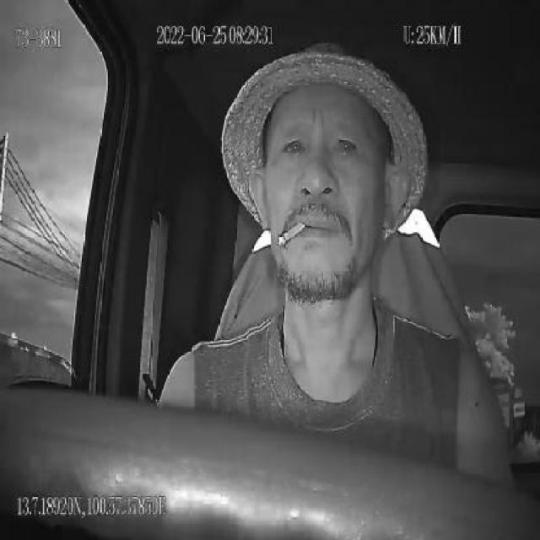smoking: (278, 219, 306, 247)
